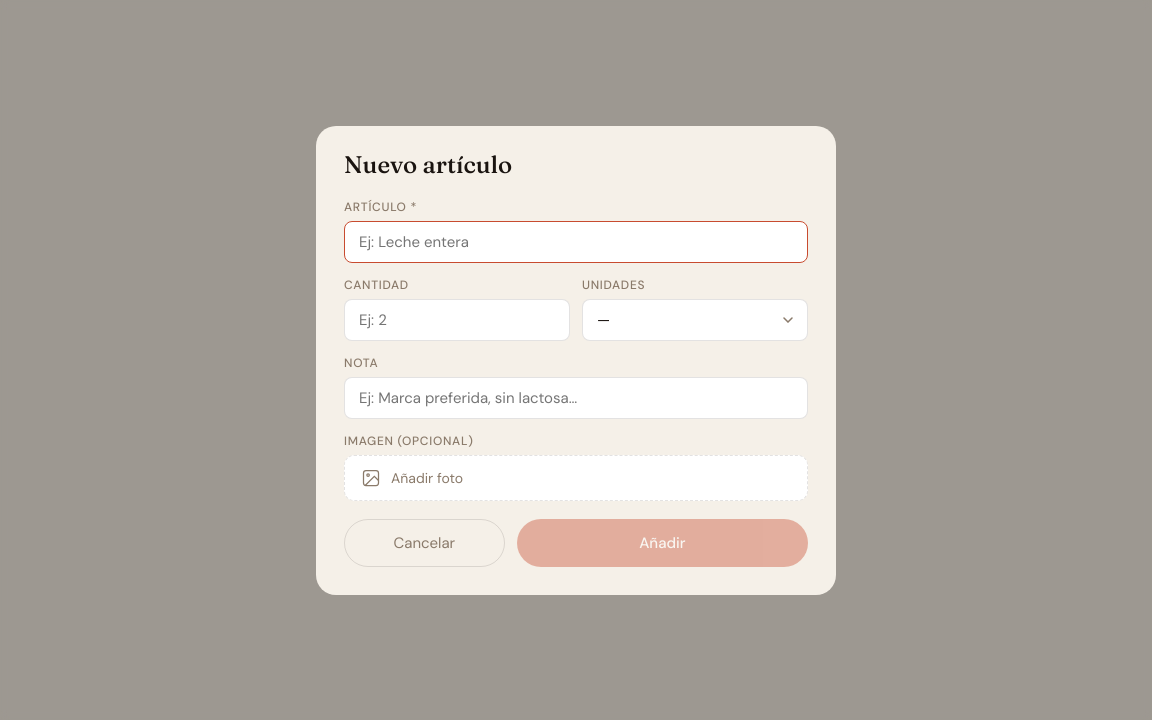
AddItemSheet › submit button is enabled when name has text
Step 1. Type "Pan" into the field with placeholder "Ej: Leche entera" → [576, 242], box [344, 220, 808, 262]
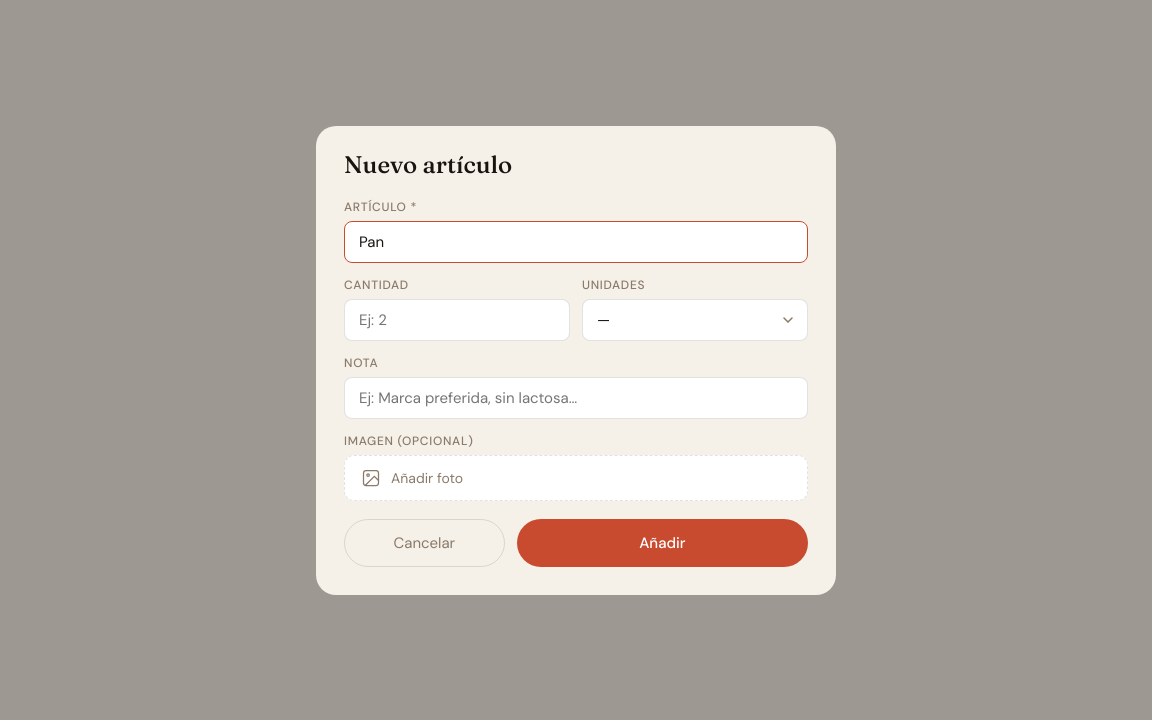
Expected: the button "Añadir" is enabled, [517, 518, 808, 566]
